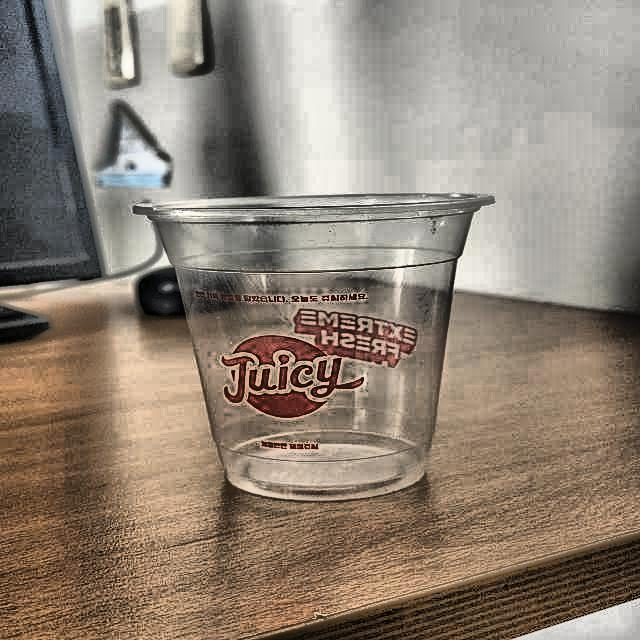plastic cup: (130, 195, 508, 502)
